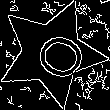O_NW: (19, 23, 84, 83)
